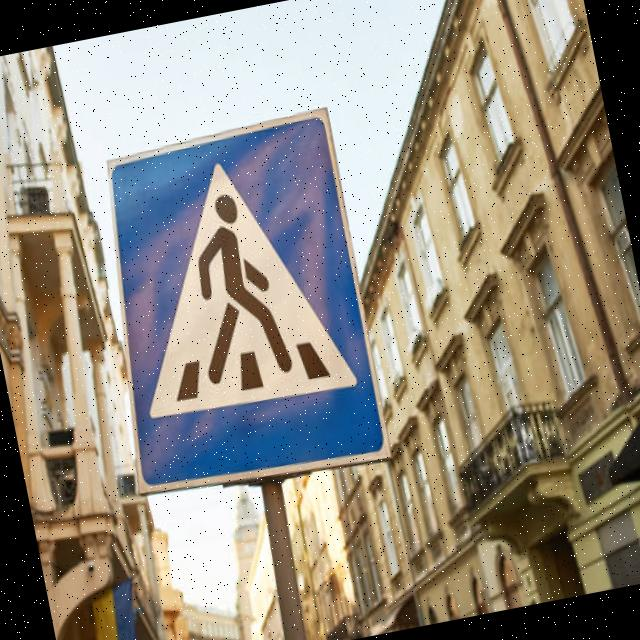crosswalk: (62, 93, 410, 526)
